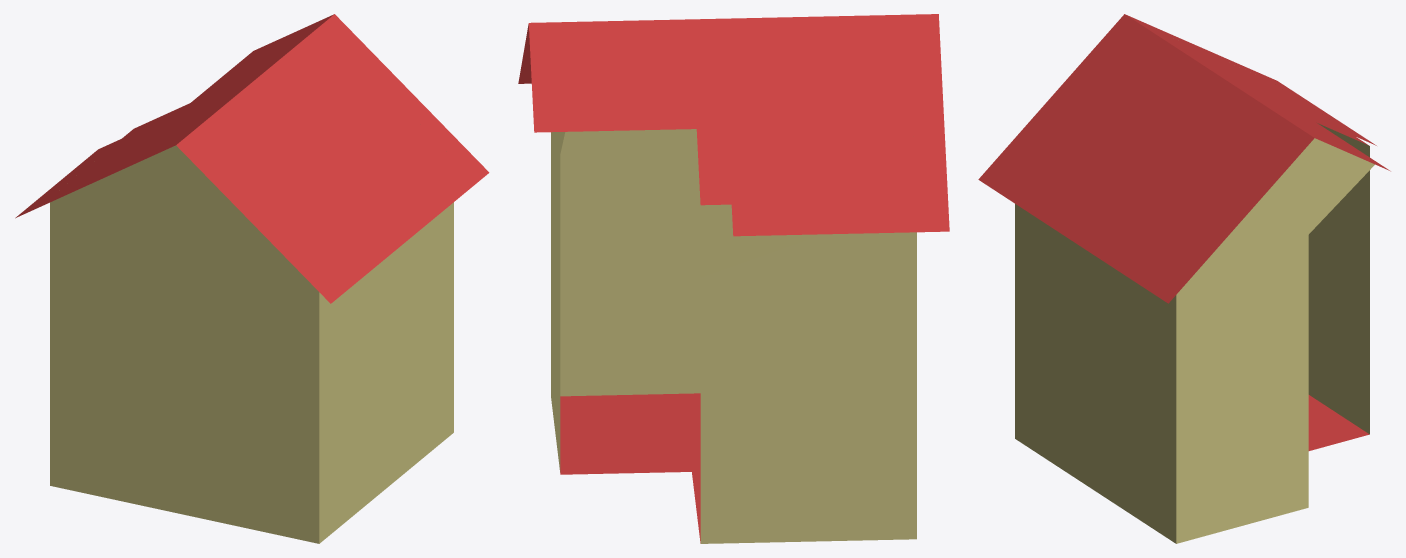
The picture shows the model from 3 angles, left to right: view 1: azimuth 30°, elevation 25°; view 2: azimuth 150°, elevation 25°; view 3: azimuth 270°, elevation 25°; orthographic projection. The views are drawn at different scales.
Size of the model in its own units: 13.78 by 11.69 by 11.9.
